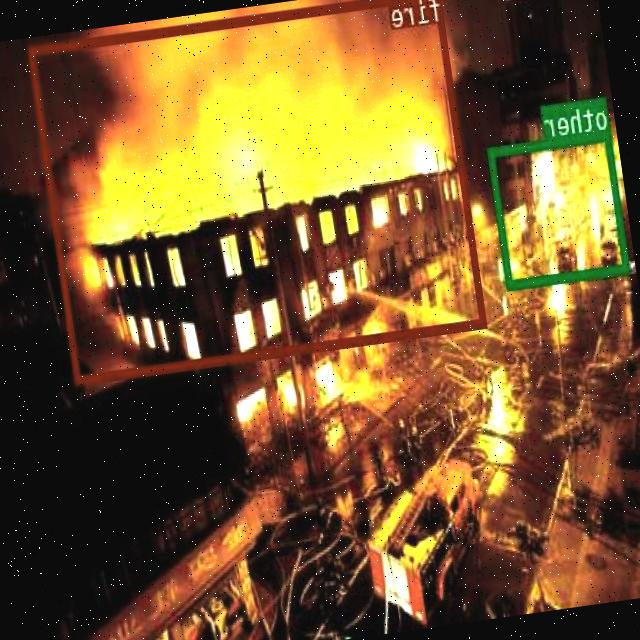fire: (29, 0, 487, 381)
